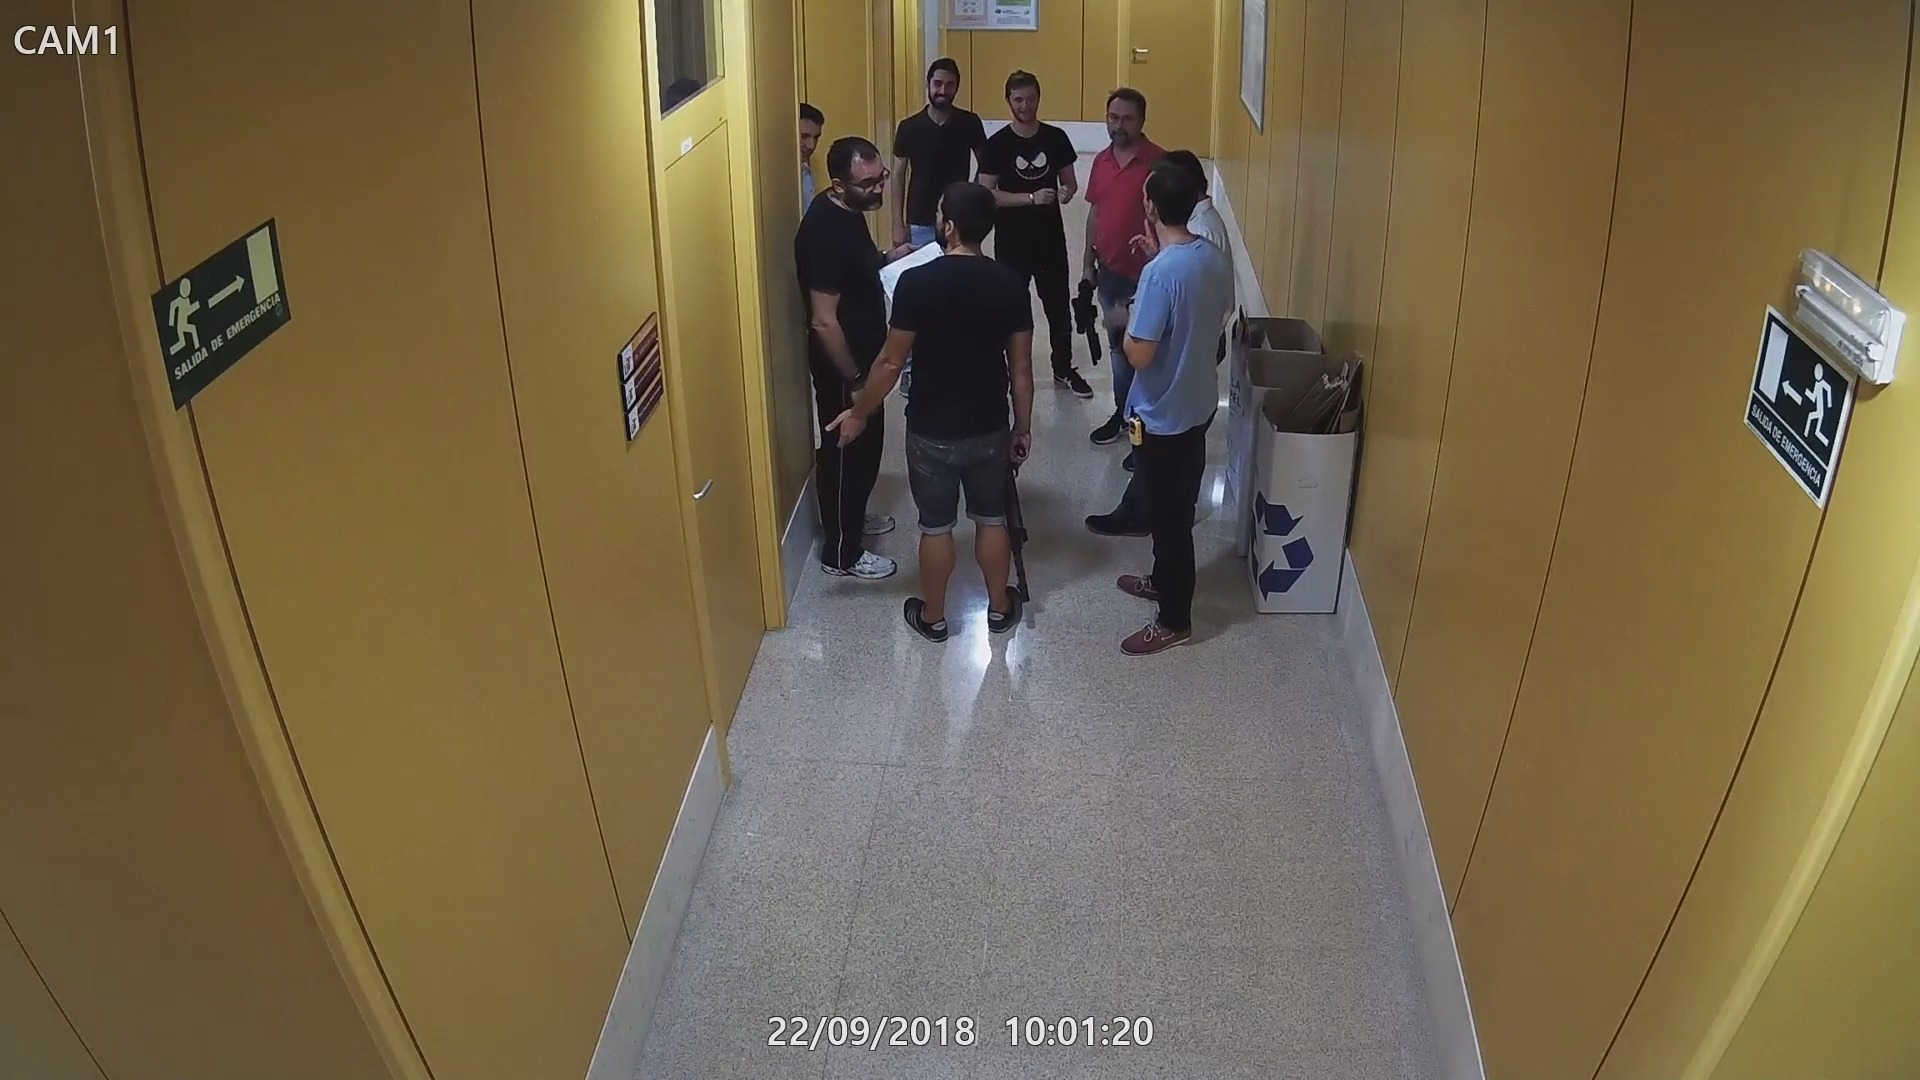Handgun: (1088, 243, 1116, 273)
Short_rifle: (1007, 436, 1036, 597), (1068, 273, 1105, 363)
